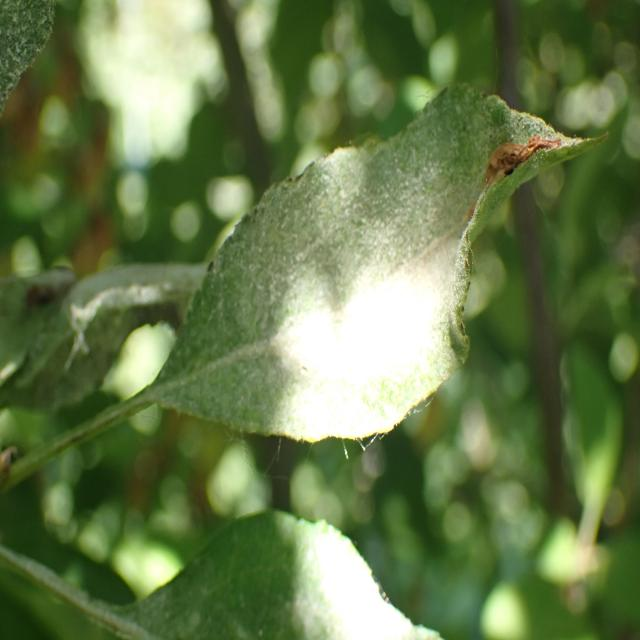Powdery_mildew: (109, 84, 585, 475), (43, 505, 492, 640)
